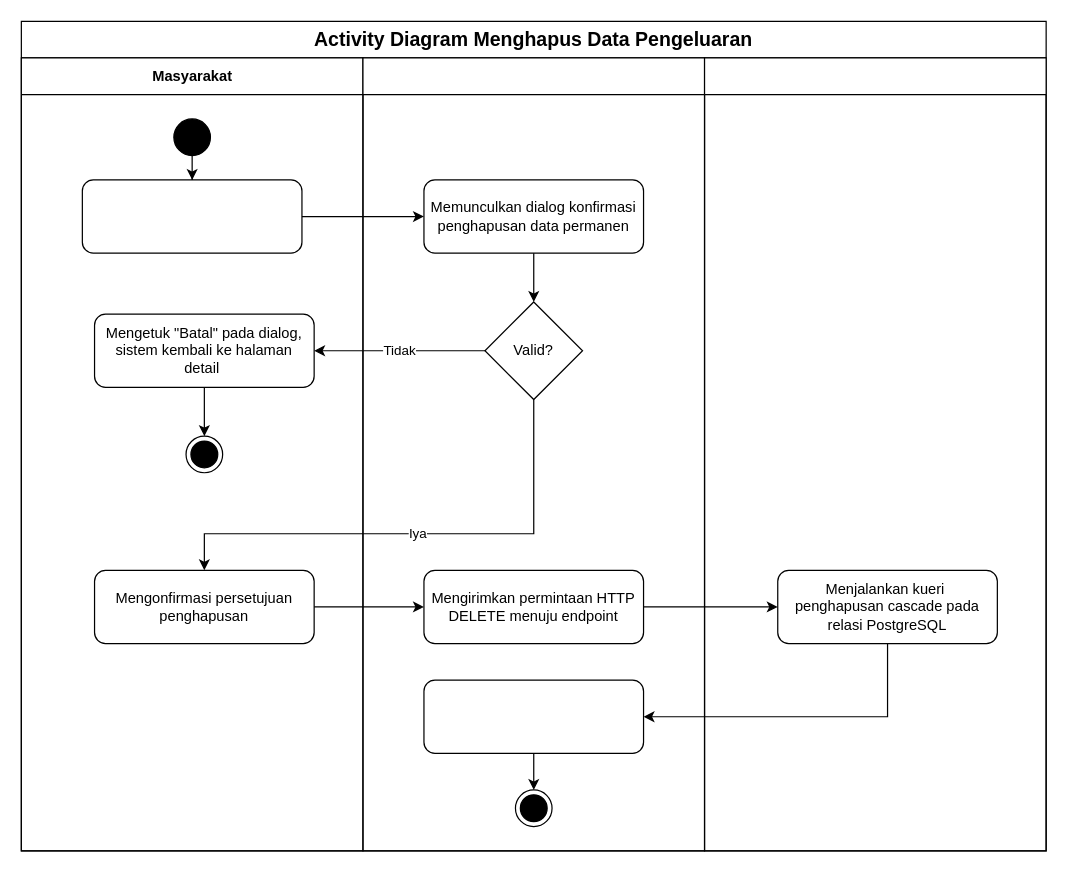
Image size: 1068x872. Some labels were removed from this diagram. The shapes that lost their labels are listed below. From the top down, each one's box as (x1, y1, x2, y2) in pixels, then its label:
(81, 179, 302, 253): Mengetuk opsi "Hapus" pada struk pengeluaran tertentu
(362, 57, 705, 851): Sistem
(703, 57, 1046, 851): Web Service
(423, 679, 644, 753): Mengembalikan pengguna ke halaman riwayat dan menampilkan Toaster pesan sukses
